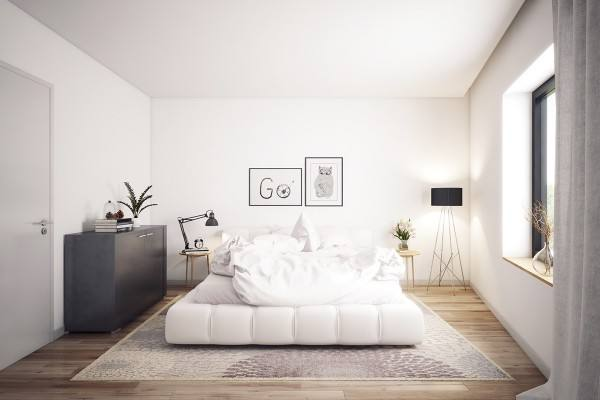床: (164, 225, 426, 350)
灯: (174, 209, 220, 253)
